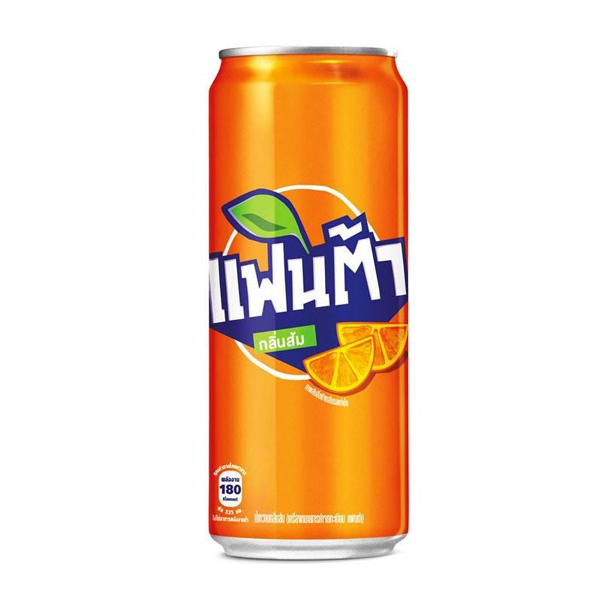fanta_can: (204, 44, 410, 560)
